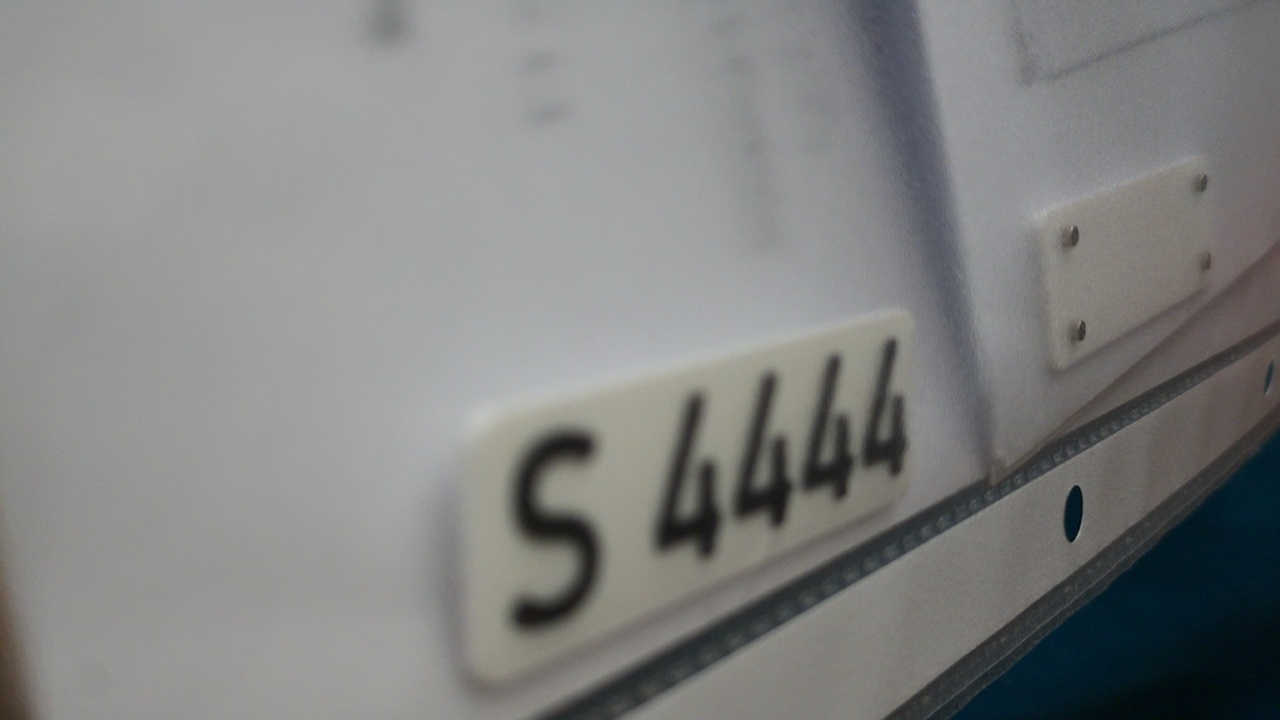license_plate: (446, 299, 929, 698), (1028, 146, 1227, 381)
